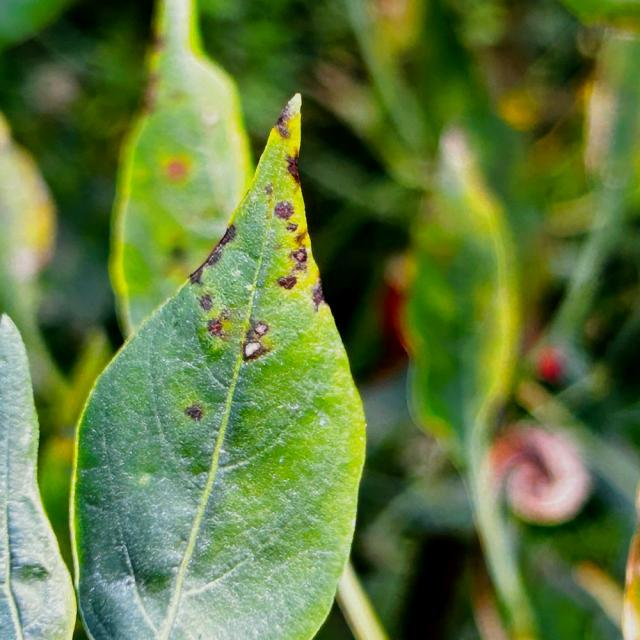Bercak Daun Serkospora: (69, 92, 368, 640)
